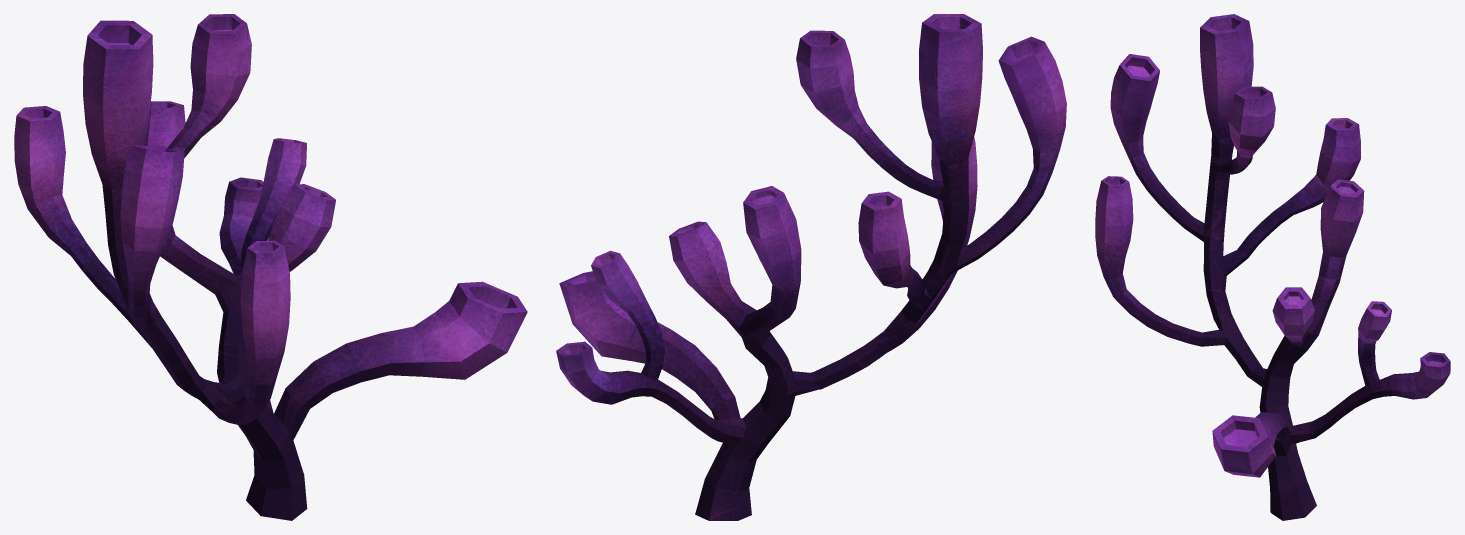
Rendered from plant_02.fbx.
3 renders of one model, left to right at view 1: azimuth 30°, elevation 25°; view 2: azimuth 150°, elevation 25°; view 3: azimuth 270°, elevation 25°, orthographic. The views are drawn at different scales.
Visible parts, largest first — view 1: qq:Mesh; view 2: qq:Mesh; view 3: qq:Mesh.
Boxes of the visible parts, left/top/right/bottom form: qq:Mesh: left=14, top=14, right=527, bottom=520; qq:Mesh: left=556, top=14, right=1066, bottom=520; qq:Mesh: left=1095, top=14, right=1450, bottom=520.
Bounding box in the file's own units: 9.24 × 10.52 × 8.13.
